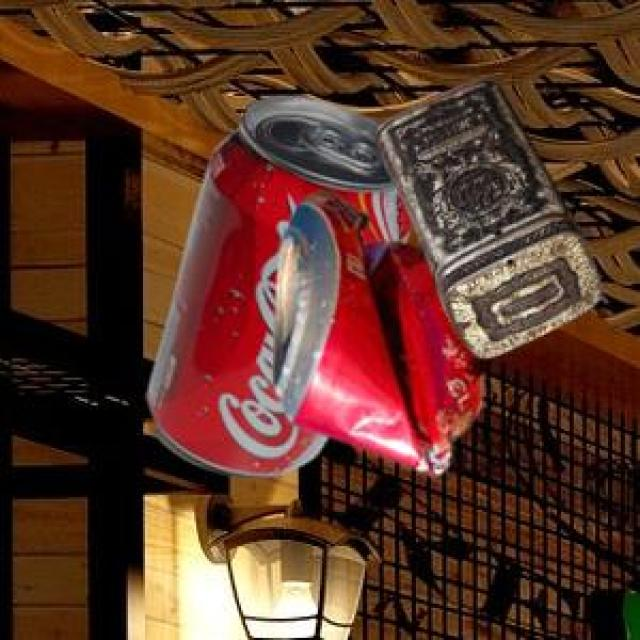logam: (144, 93, 409, 475), (372, 76, 598, 355), (270, 189, 483, 473)
